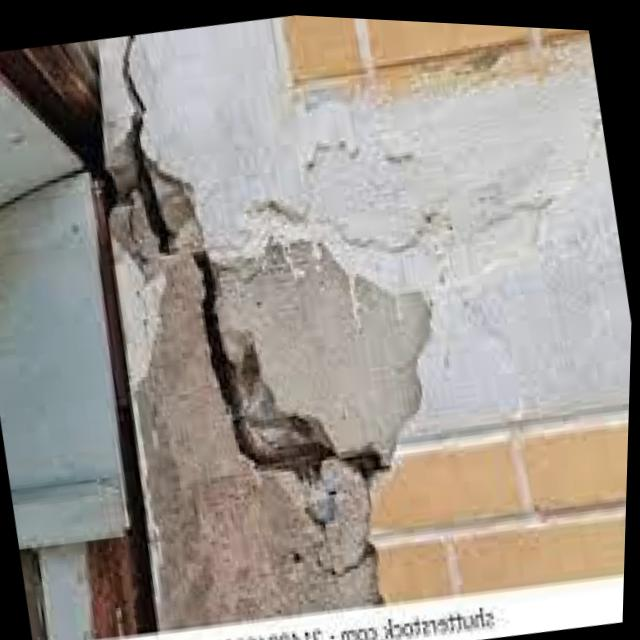Crack: (52, 160, 192, 632), (183, 231, 341, 490), (87, 31, 202, 308)
